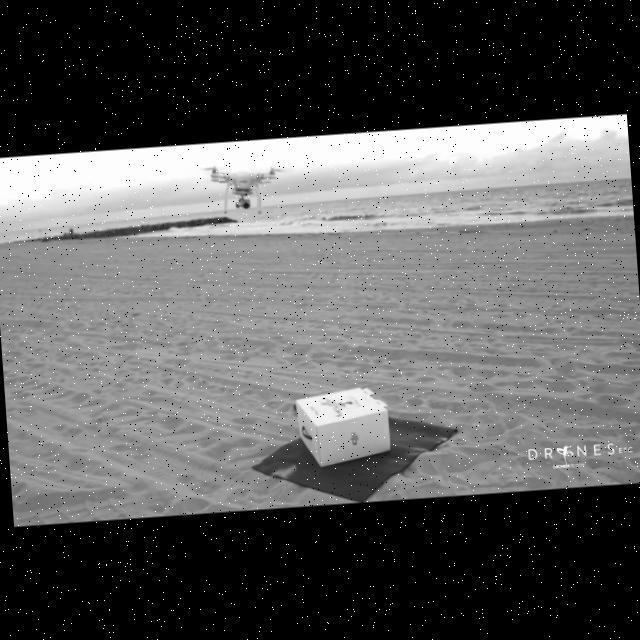Drons: (198, 156, 288, 228)
